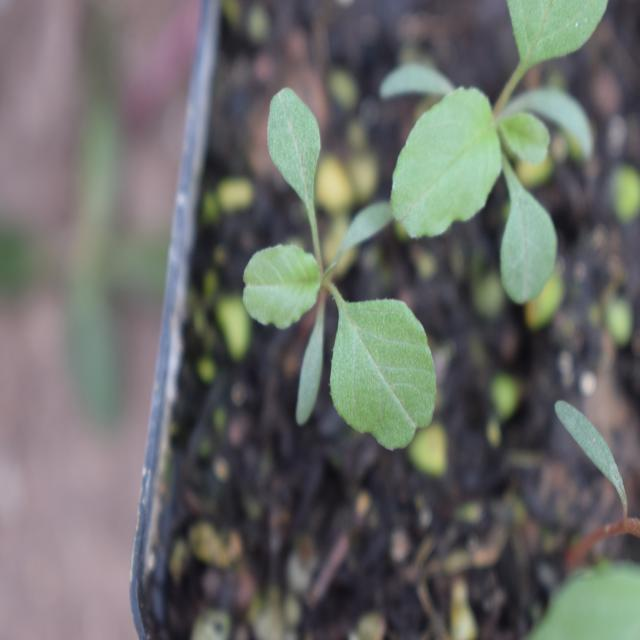pigweed: (245, 96, 430, 433)
